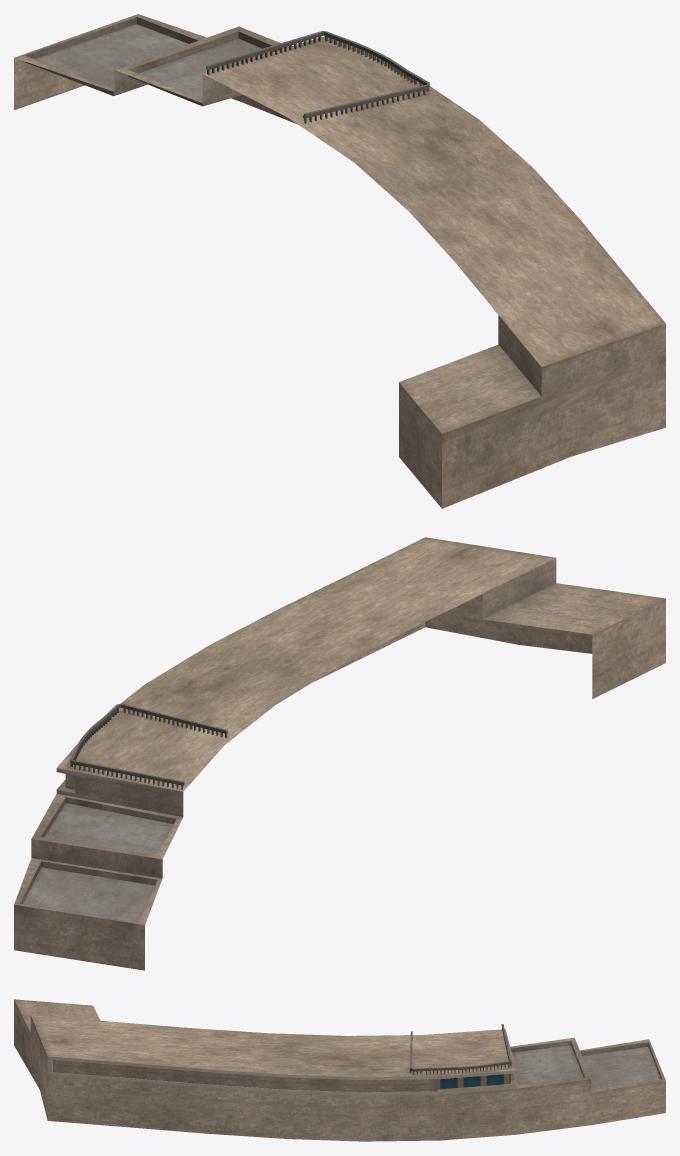
The model's file is Bat_Port_1.2.fbx.
3 renders of one model, top to bottom at view 1: azimuth 30°, elevation 25°; view 2: azimuth 150°, elevation 25°; view 3: azimuth 270°, elevation 25°, orthographic. The views are drawn at different scales.
Visible parts, largest first — view 1: Bat_Port_1.2; view 2: Bat_Port_1.2; view 3: Bat_Port_1.2.
Boxes of the visible parts, left/top/right/bottom form: Bat_Port_1.2: left=14, top=14, right=665, bottom=508; Bat_Port_1.2: left=14, top=537, right=665, bottom=970; Bat_Port_1.2: left=14, top=999, right=665, bottom=1141.
Size of the model in its own units: 3752 by 1268 by 10740.
